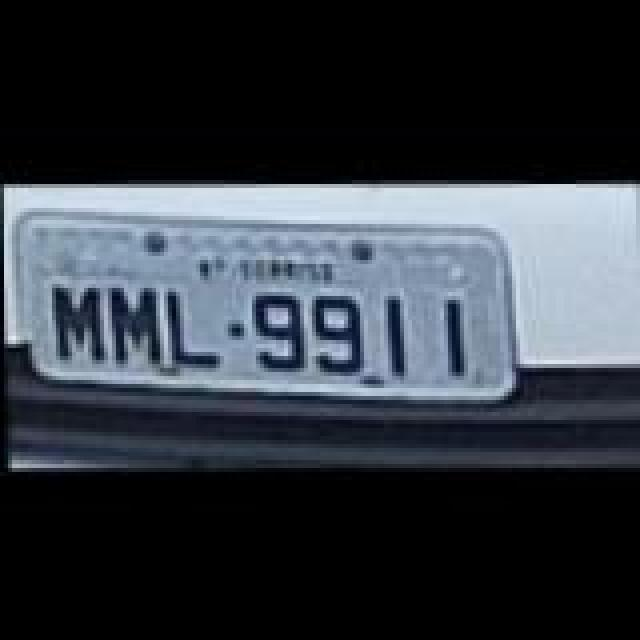1: (448, 296, 472, 376), (388, 290, 412, 370)
9: (310, 292, 362, 372), (258, 288, 310, 368)
L: (168, 284, 224, 364)
M: (108, 282, 164, 362), (52, 282, 108, 358)
